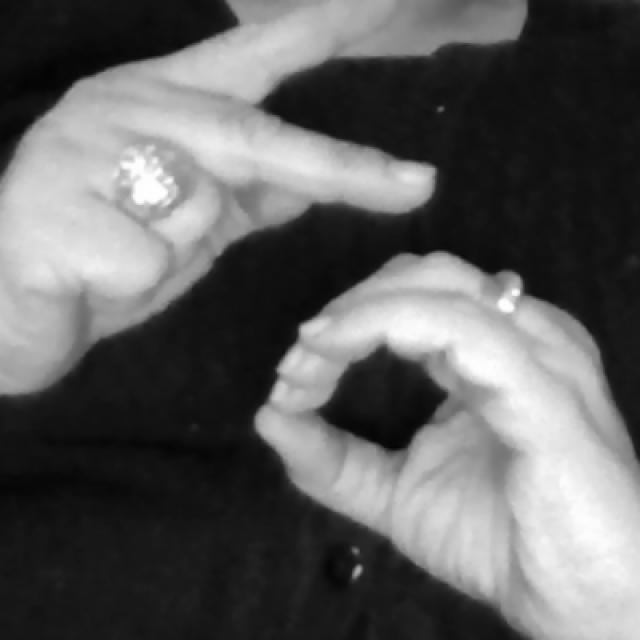O--: (3, 1, 640, 638)
